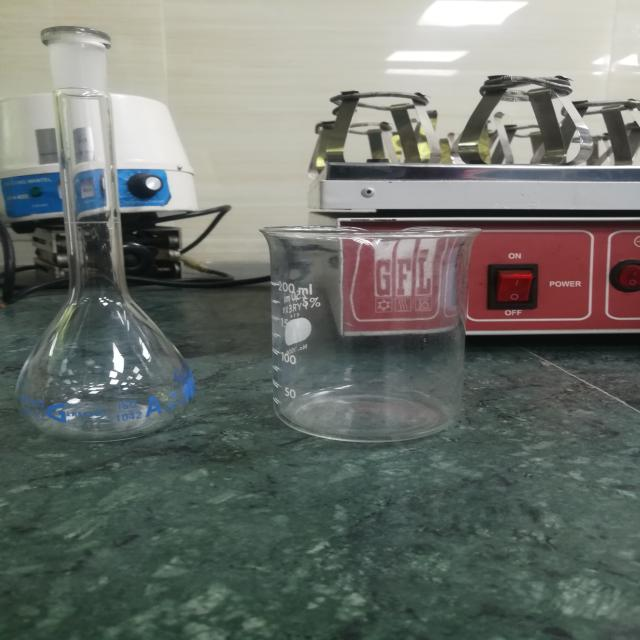Beaker: (233, 205, 507, 457)
Volumetric_Flask: (15, 8, 206, 452)
